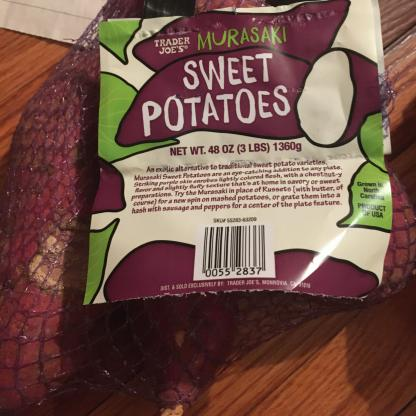potatochip: (73, 0, 400, 304)
